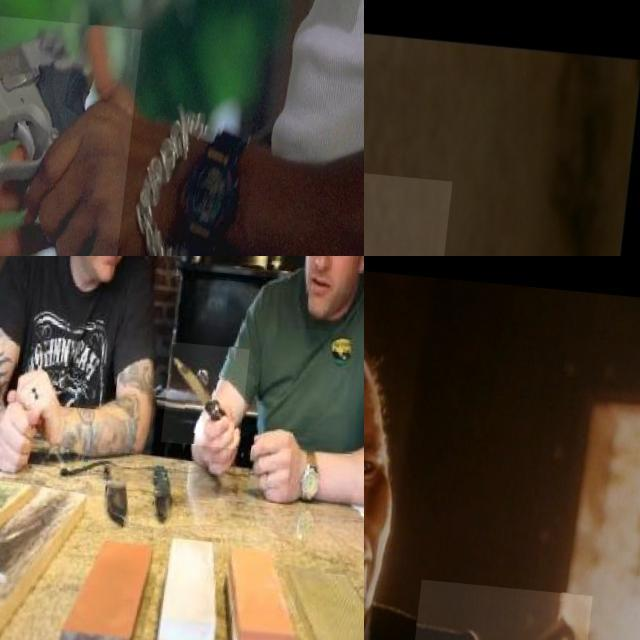-: (170, 336, 258, 442)
gun-knife-thesis - v11 Yolov5 augmented: (0, 5, 146, 256), (407, 572, 599, 640)
